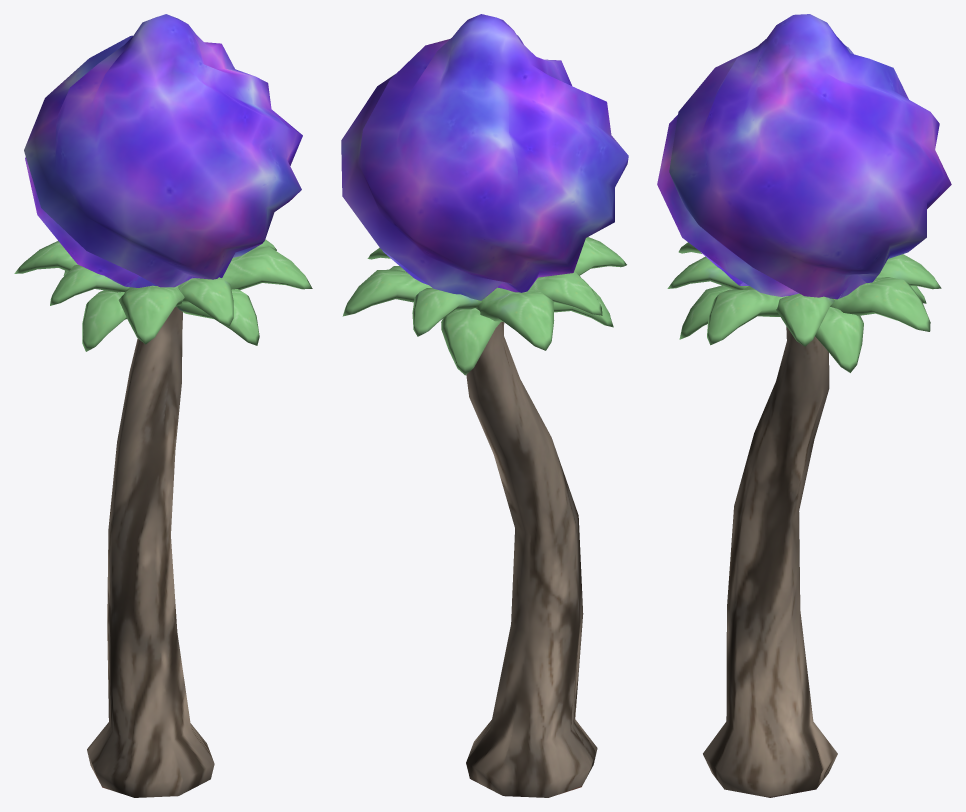
File: f_fruit_03_low.fbx
3 renders of one model, left to right at view 1: azimuth 30°, elevation 25°; view 2: azimuth 150°, elevation 25°; view 3: azimuth 270°, elevation 25°, orthographic. The views are drawn at different scales.
Parts seen in each view (by area): view 1: f_fruit_03_low; view 2: f_fruit_03_low; view 3: f_fruit_03_low.
Boxes of the visible parts, x1,y1,x2,y2 form: f_fruit_03_low: (14,14,312,797); f_fruit_03_low: (341,14,628,797); f_fruit_03_low: (657,14,951,797).
Size of the model in its own units: 0.3181 by 0.9176 by 0.3181.
